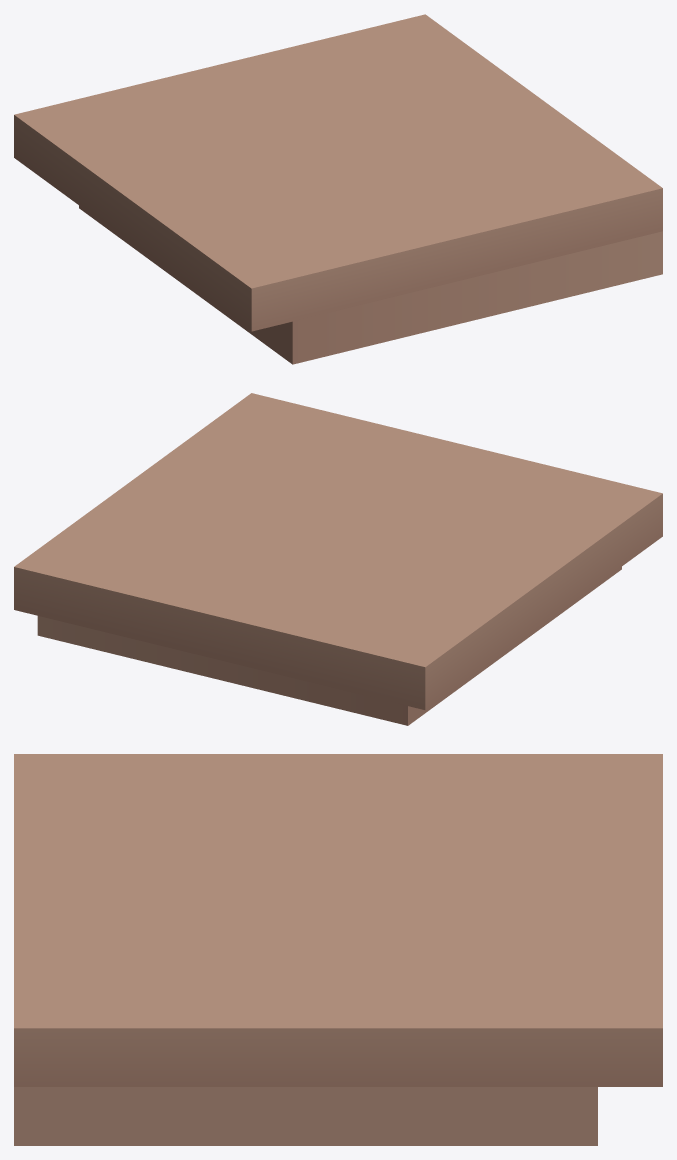
The model's file is surfaces-quarter-surface-square-edge.glb.
The picture shows the model from 3 angles, top to bottom: view 1: azimuth 30°, elevation 25°; view 2: azimuth 150°, elevation 25°; view 3: azimuth 270°, elevation 25°; orthographic projection. The views are drawn at different scales.
Parts seen in each view (by area): view 1: surfaces-quarter-surface-square-edge; view 2: surfaces-quarter-surface-square-edge; view 3: surfaces-quarter-surface-square-edge.
Part boxes in pixels (x1,y1,x2,y2): surfaces-quarter-surface-square-edge: (14, 14, 662, 364); surfaces-quarter-surface-square-edge: (14, 393, 662, 725); surfaces-quarter-surface-square-edge: (14, 754, 662, 1145).
Bounding box in the file's own units: 0.5 × 0.1 × 0.5.
